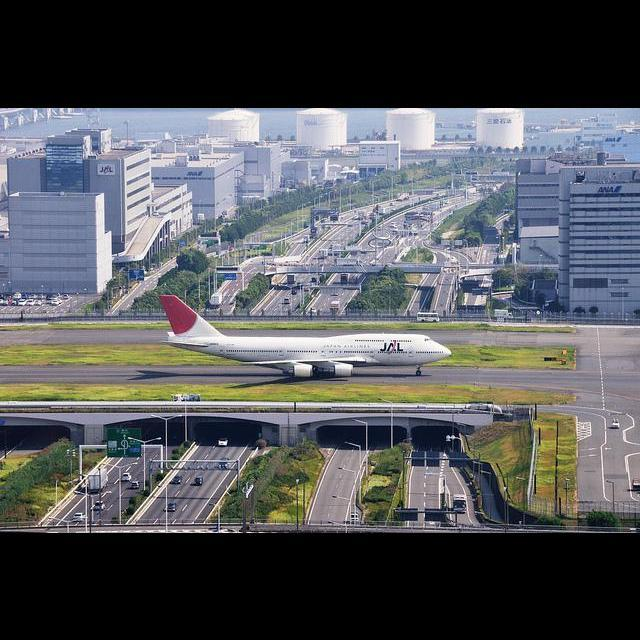airplane: (156, 296, 456, 378)
bus: (454, 494, 466, 514), (416, 312, 439, 322)
car: (162, 503, 178, 513), (218, 458, 230, 470), (72, 512, 84, 522), (94, 500, 106, 510), (173, 474, 183, 484), (611, 418, 621, 428), (218, 437, 228, 447), (121, 473, 131, 482), (194, 476, 203, 486), (132, 480, 140, 490), (52, 300, 59, 306), (312, 307, 316, 313), (291, 290, 297, 294)
traffic light: (253, 255, 255, 257)
truck: (87, 468, 109, 492), (330, 301, 340, 315), (94, 501, 106, 512)
